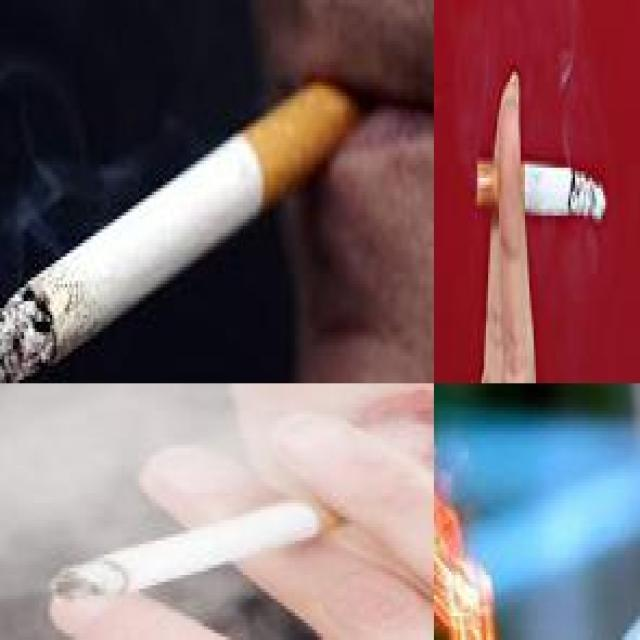smoking: (0, 79, 360, 380), (50, 481, 382, 604), (464, 486, 638, 637), (476, 159, 606, 224)
